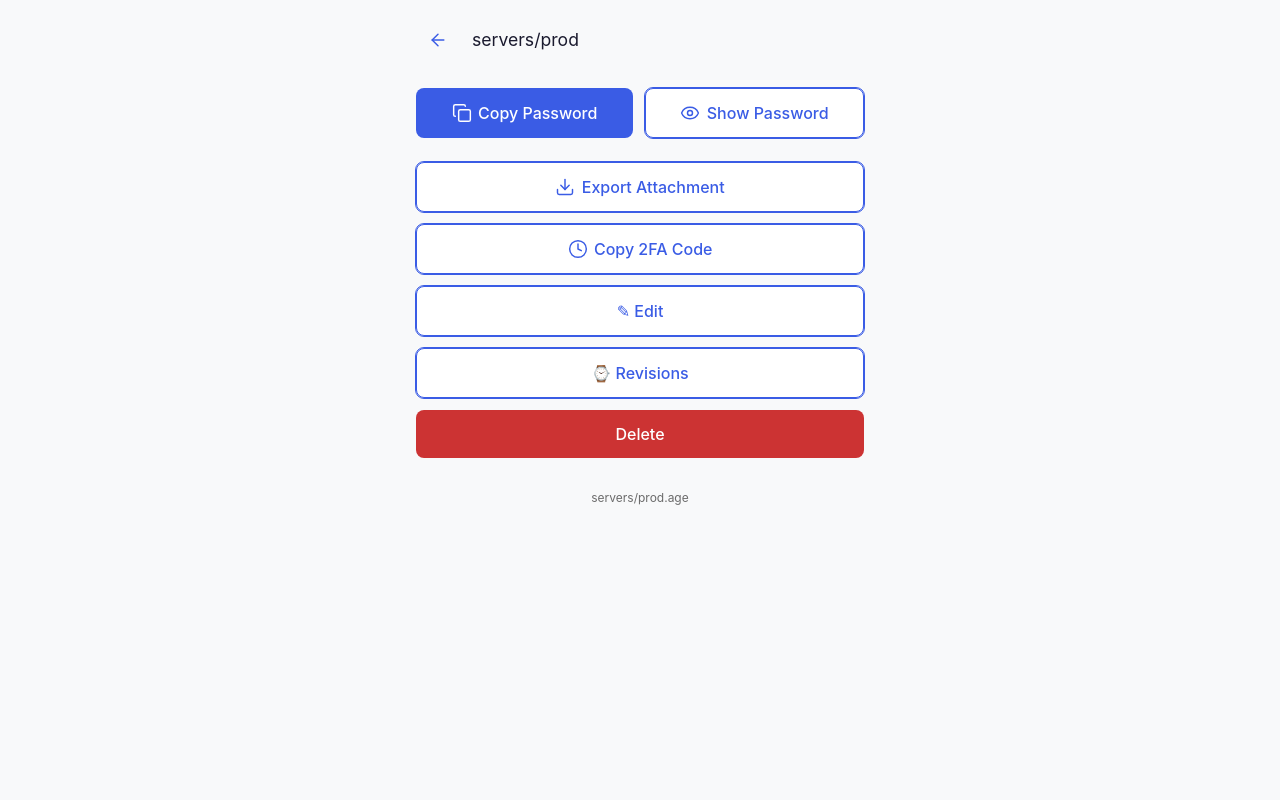
Scenario: EntryDetailPage › deleteSecret › on entry_conflict outcome, surfaces the per-entry modal (delete op)
Click the button with aria-label "Delete servers/prod".
click(640, 434)  # box [416,410,864,458]
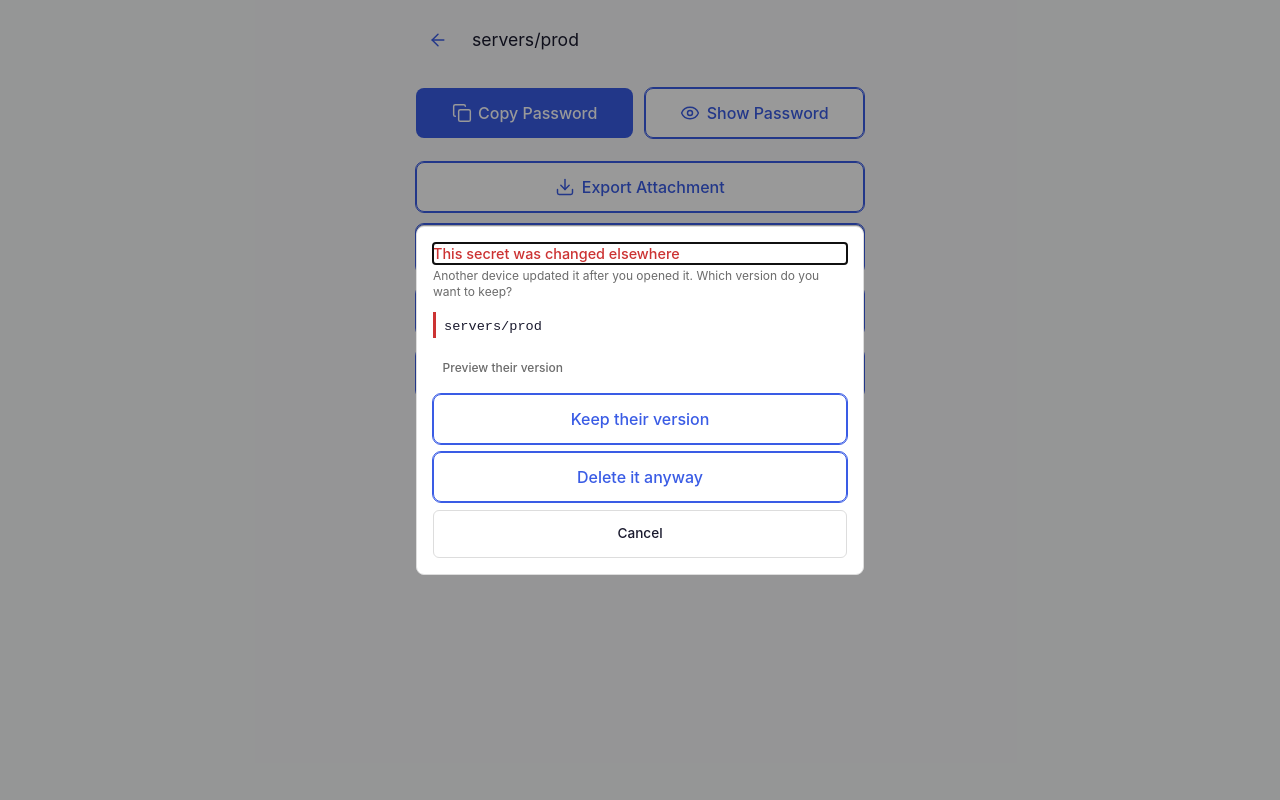
Now the text "This secret was changed elsewhere" is shown, box [433,244,680,262]
Now the text "Keep their version" is shown, box [433,394,847,444]
Now the text "Delete it anyway" is shown, box [433,452,847,502]
